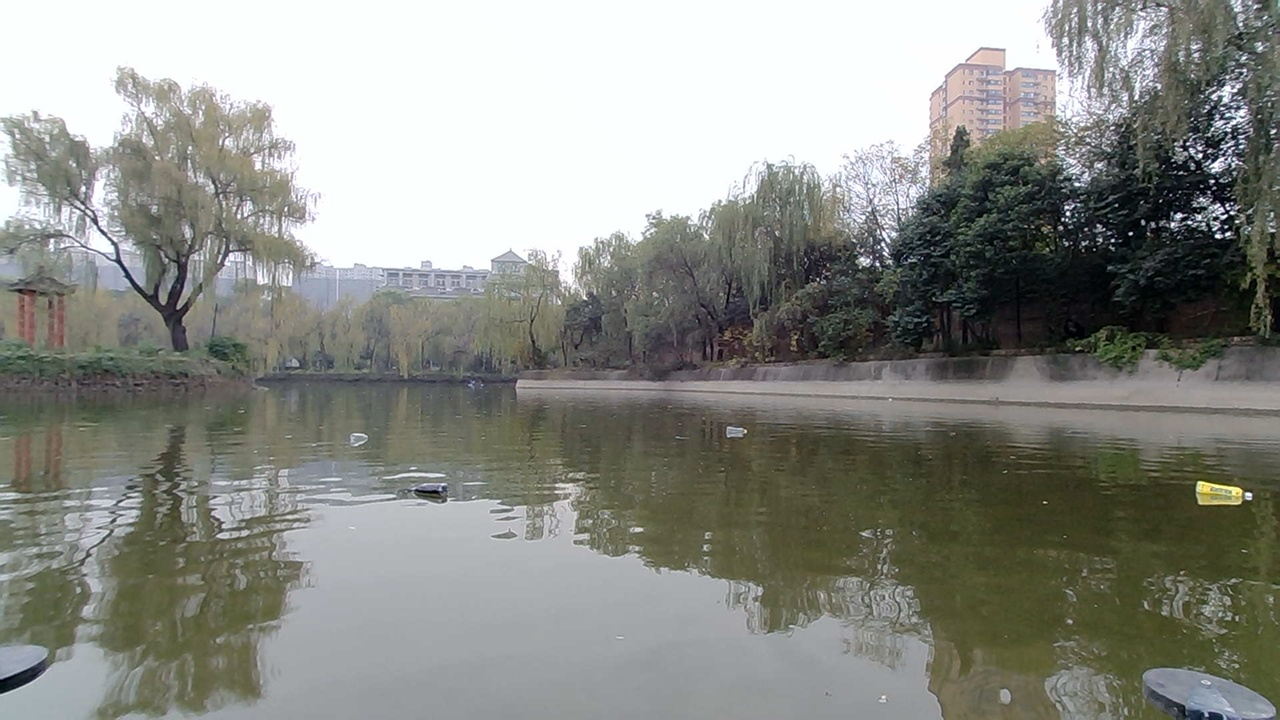bottle: (404, 475, 457, 511), (1194, 474, 1243, 511), (712, 410, 759, 444), (355, 426, 393, 461)
